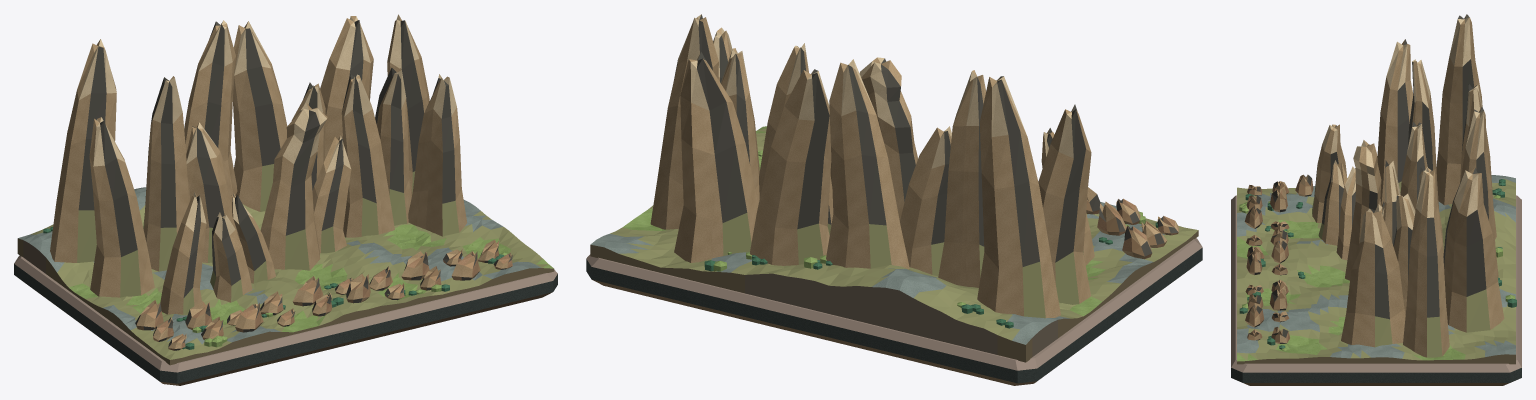
The model's file is stone-forest.glb.
3 renders of one model, left to right at view 1: azimuth 30°, elevation 25°; view 2: azimuth 150°, elevation 25°; view 3: azimuth 270°, elevation 25°, orthographic. The views are drawn at different scales.
Parts seen in each view (by area): view 1: 昆明石林·阿诗玛; view 2: 昆明石林·阿诗玛; view 3: 昆明石林·阿诗玛.
Boxes of the visible parts, x1,y1,x2,y2 form: 昆明石林·阿诗玛: [14, 14, 557, 385]; 昆明石林·阿诗玛: [586, 14, 1202, 385]; 昆明石林·阿诗玛: [1231, 14, 1521, 385].
Bounding box in the file's own units: 6.15 × 3.6 × 4.25.
15 materials, 8 textured.
